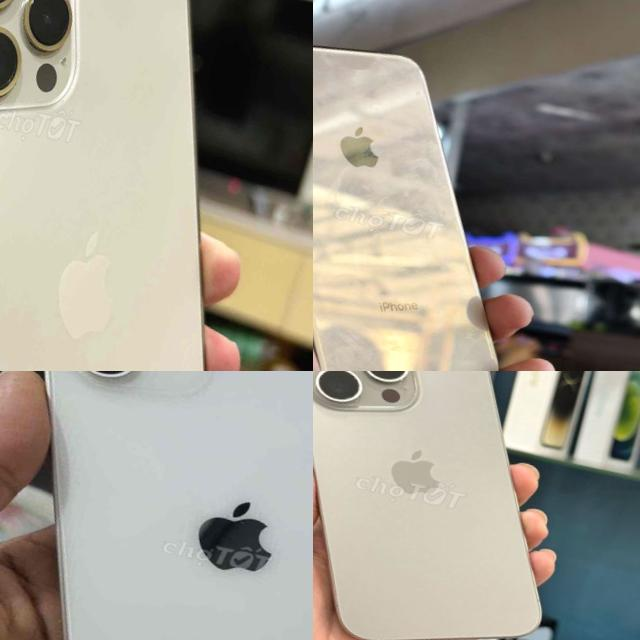gen_12_13: (0, 0, 313, 371), (0, 371, 313, 640)
gen_15: (313, 371, 613, 640)
gen_x_xs: (313, 46, 497, 371)
